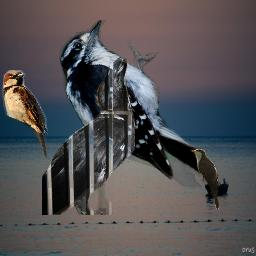Crow: (42, 58, 135, 215)
Cuckoo: (190, 148, 221, 210)
Swallow: (2, 70, 48, 158)
Woodpecker: (57, 20, 220, 187)
